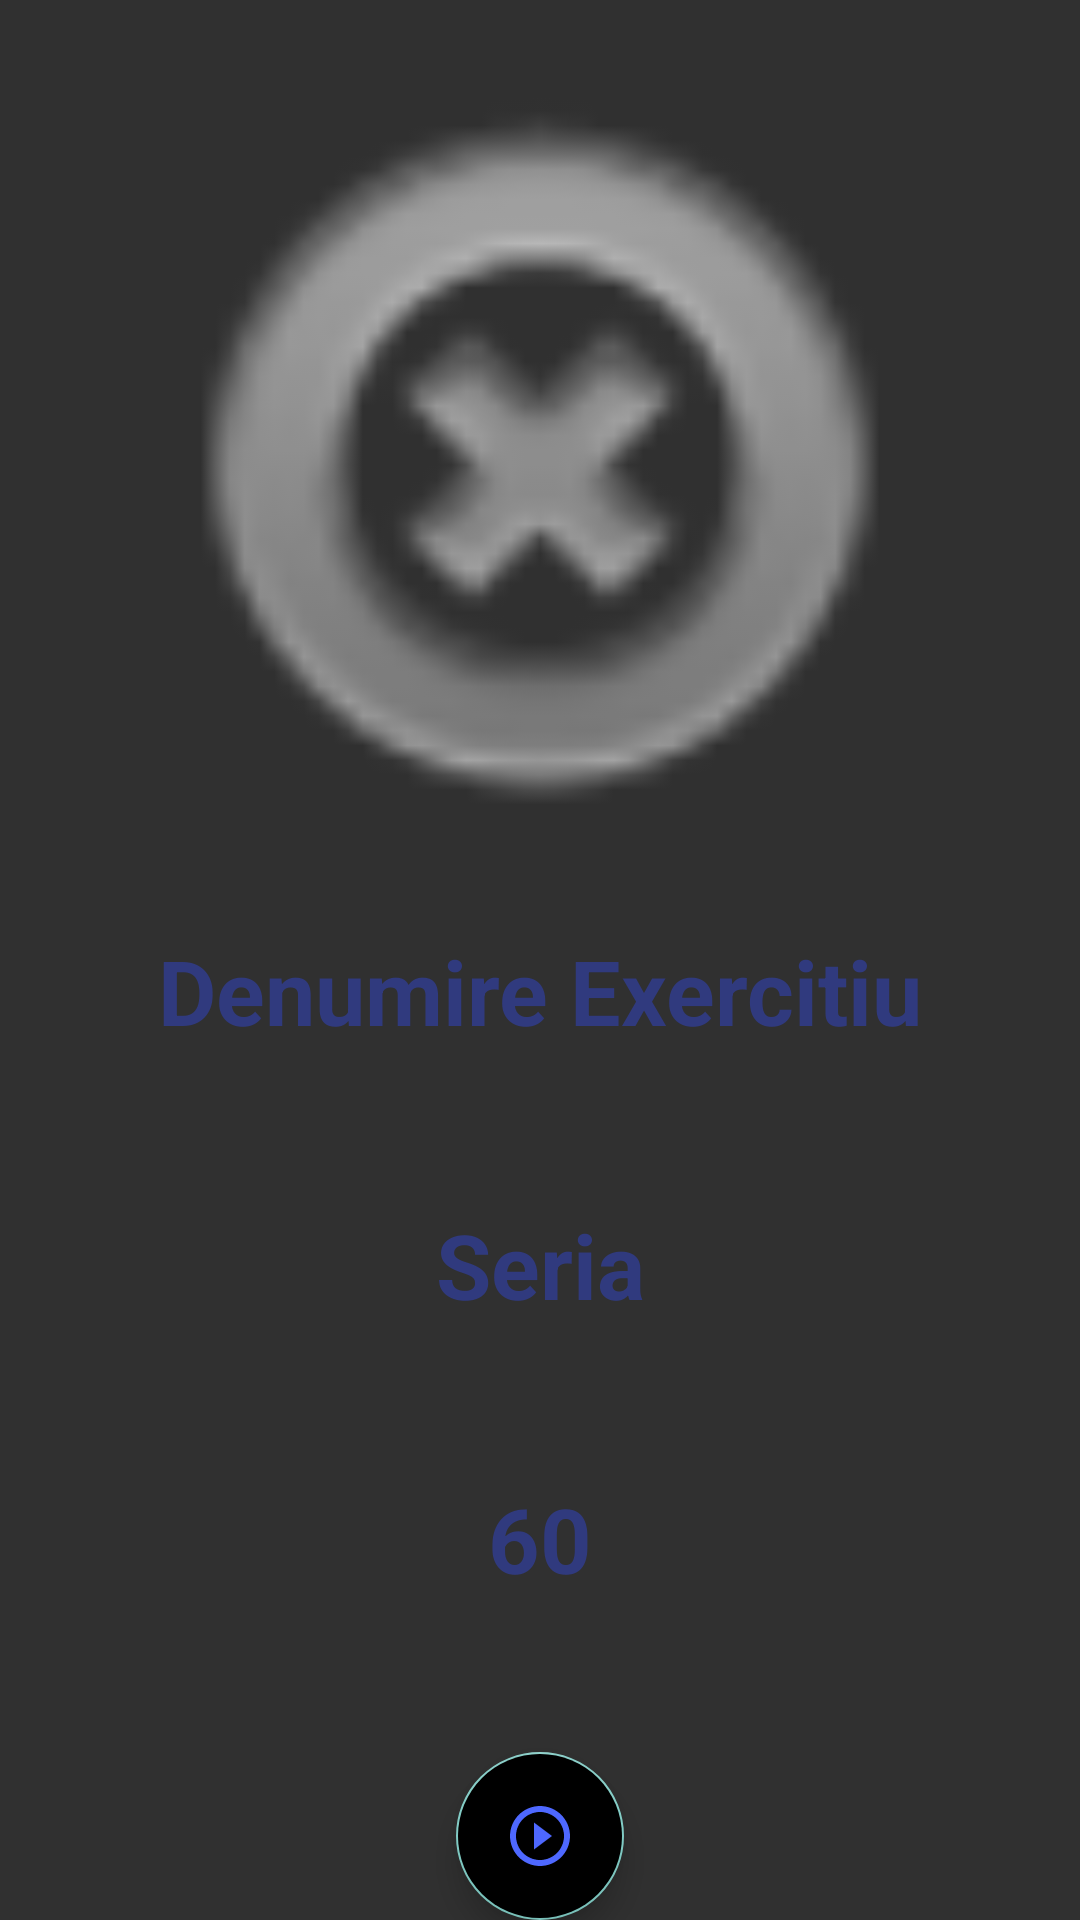

Locate icon controls on the screen. Image size 1080px×1920px, boxes as bbox(x1, y1, x2, y2).
play: bbox(456, 1752, 624, 1920)
